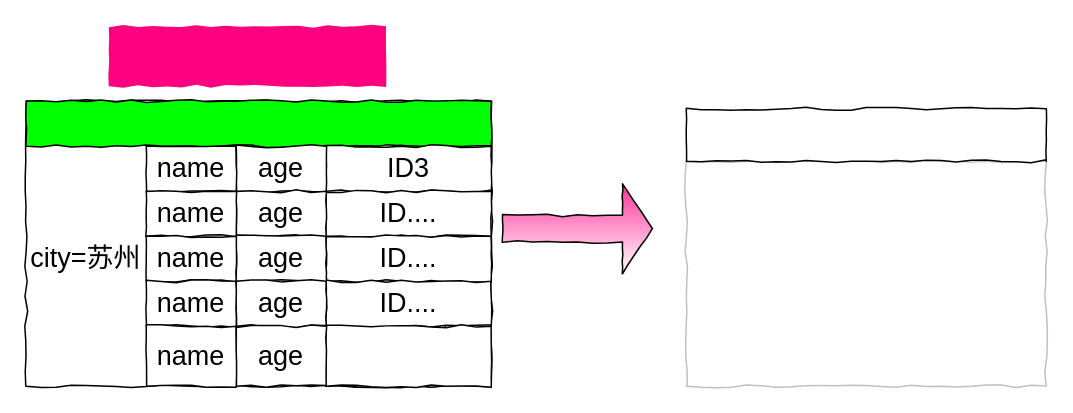
The diagram is 1073 pixels wide and 413 high, and some of its shapes have lost their labels. Each missing label, with the box of its shape:
(city,name,age)索引: (25, 100, 491, 146)
city name age: (685, 160, 1046, 386)
IDX: (325, 325, 491, 386)
name是有序的: (108, 26, 386, 86)
取值存入: (501, 182, 652, 274)
结果集: (685, 107, 1046, 161)
